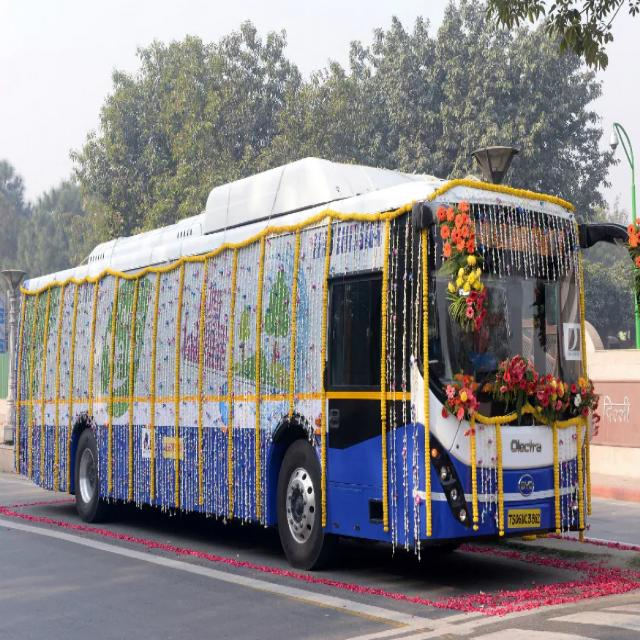BUS: (12, 165, 605, 599)
